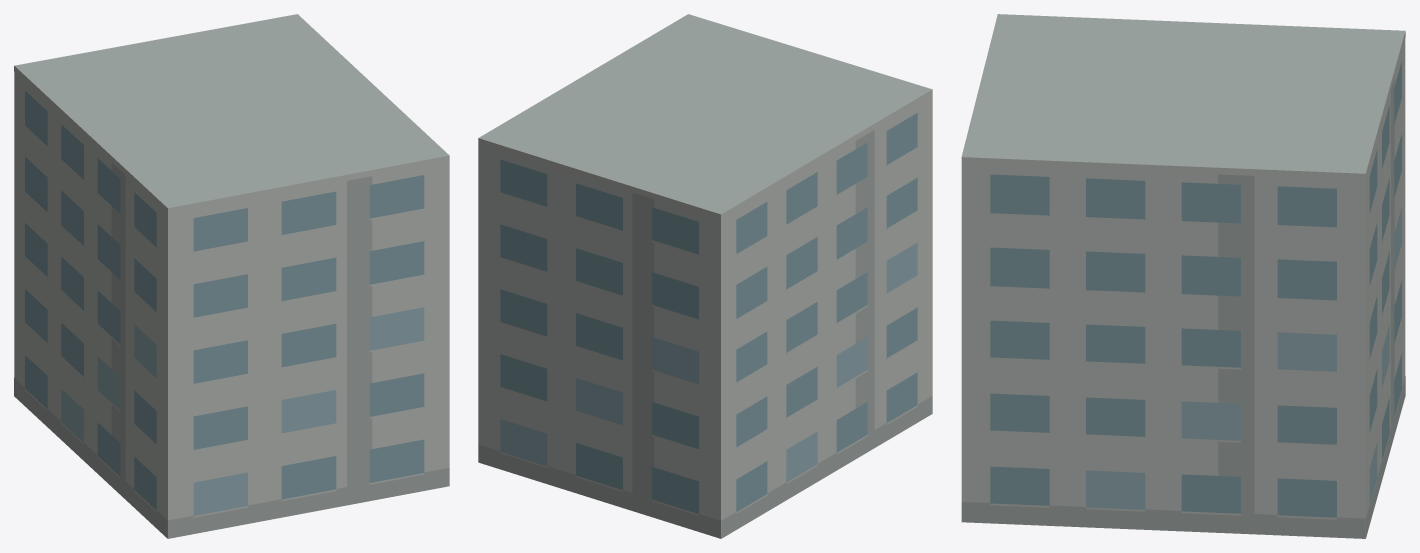
Rendered from survey-upis-32767236.glb.
3 renders of one model, left to right at view 1: azimuth 30°, elevation 25°; view 2: azimuth 150°, elevation 25°; view 3: azimuth 270°, elevation 25°, orthographic. The views are drawn at different scales.
Visible parts, largest first — view 1: survey-upis-32767236.tmp; view 2: survey-upis-32767236.tmp; view 3: survey-upis-32767236.tmp.
Boxes of the visible parts, x1,y1,x2,y2 form: survey-upis-32767236.tmp: (14, 14, 449, 538); survey-upis-32767236.tmp: (478, 14, 932, 538); survey-upis-32767236.tmp: (961, 14, 1405, 538).
Bounding box in the file's own units: 12.4 × 13.2 × 14.56.
